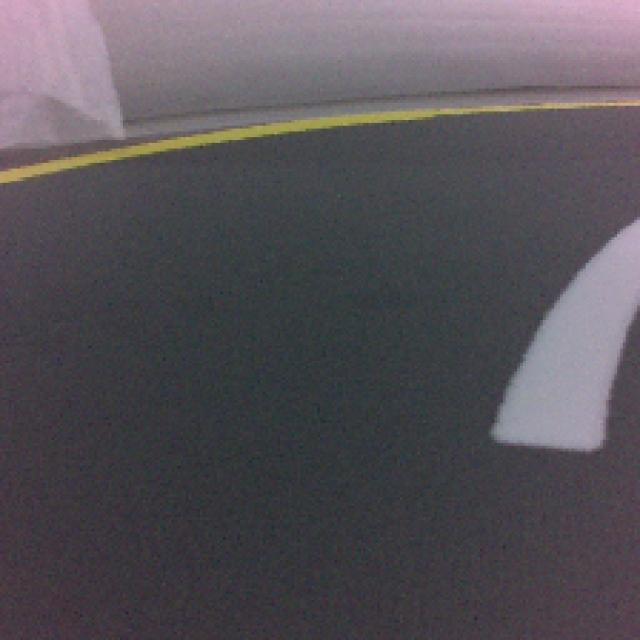Road: (0, 364, 512, 640)
